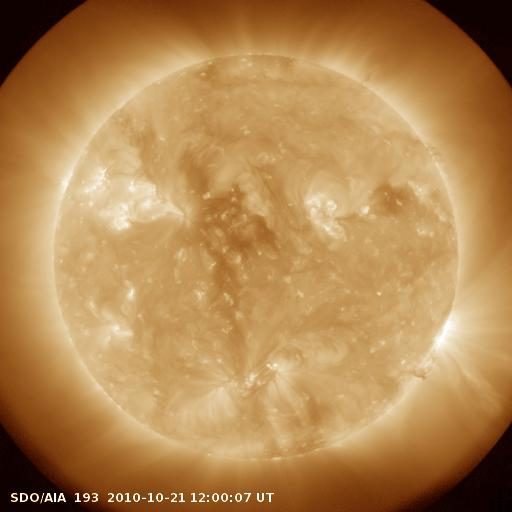coronal_hole: (184, 164, 279, 296), (364, 178, 419, 220)
